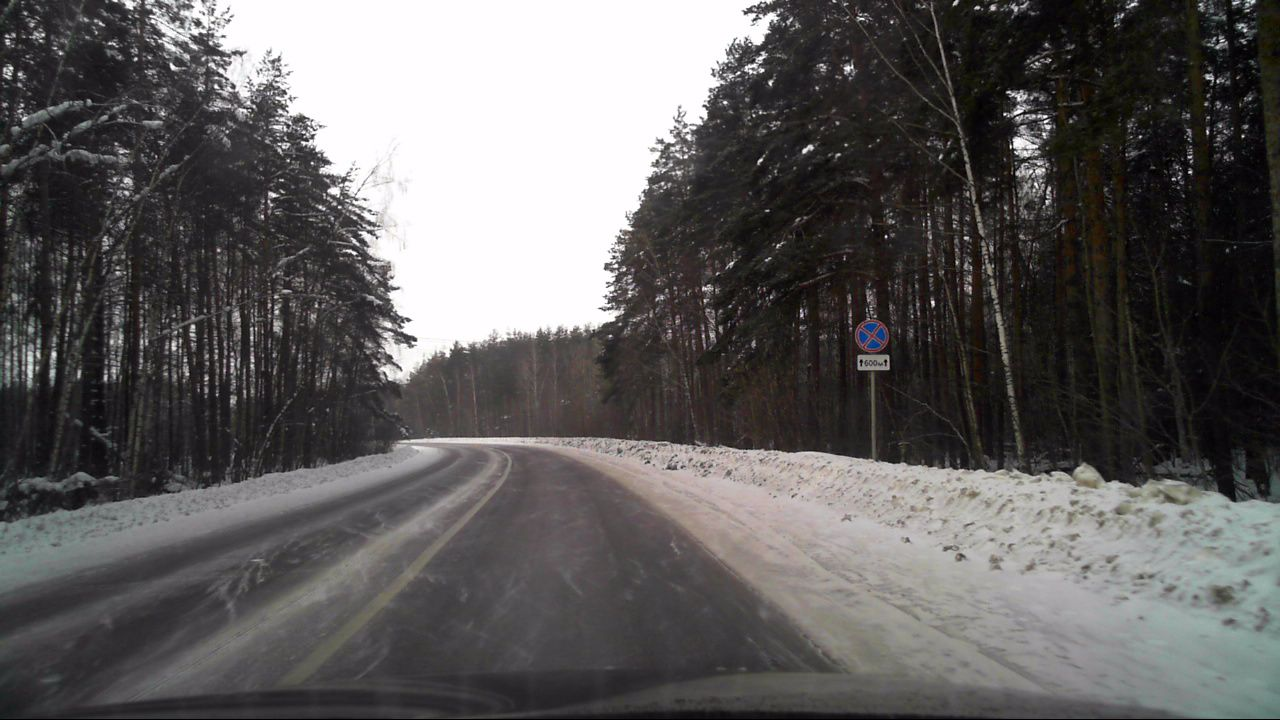No Parking: (855, 319, 887, 353)
